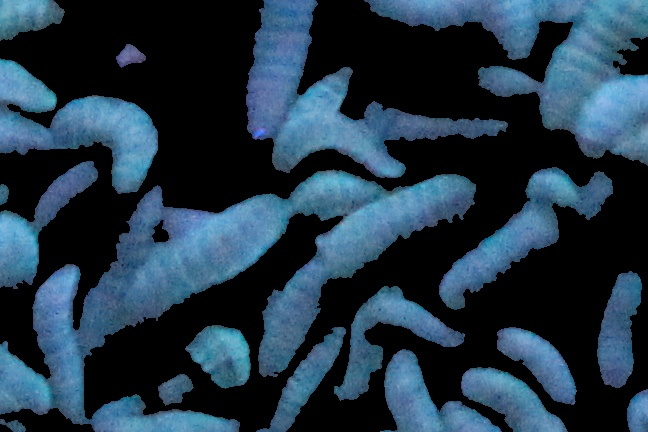larvae: (117, 193, 288, 345), (322, 179, 489, 272), (538, 1, 648, 141), (441, 208, 567, 307), (48, 91, 169, 190), (239, 1, 322, 140), (28, 259, 93, 420), (266, 68, 353, 165), (365, 100, 517, 152), (274, 321, 348, 424), (262, 261, 329, 372), (575, 68, 648, 164), (460, 366, 564, 432), (495, 326, 577, 408), (595, 264, 646, 388), (376, 284, 462, 347), (469, 1, 543, 65), (330, 114, 402, 178), (92, 402, 243, 432), (35, 162, 105, 225), (385, 352, 438, 432), (360, 1, 478, 33), (1, 337, 50, 412), (1, 1, 79, 47), (1, 63, 66, 115), (1, 112, 63, 157), (523, 163, 579, 203), (440, 396, 497, 432)
